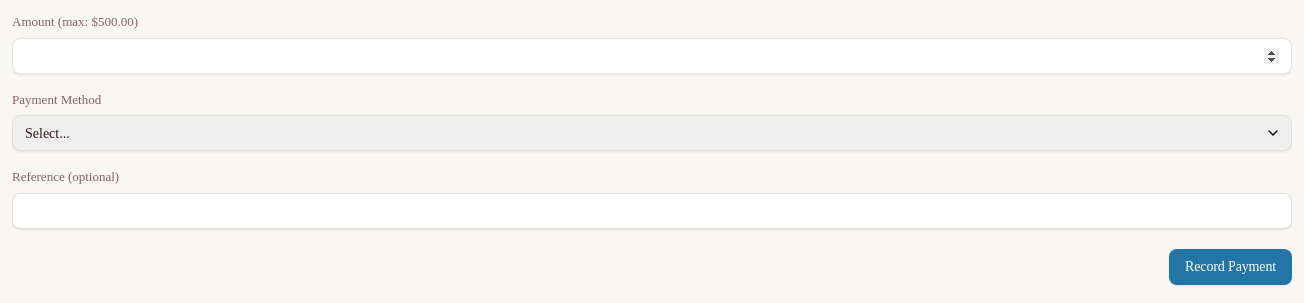
Test: PaymentForm › shows loading state
Type "250" into the number field labelled "Amount (max: $500.00)" at coordinates (652, 56), box [12, 38, 1292, 74]
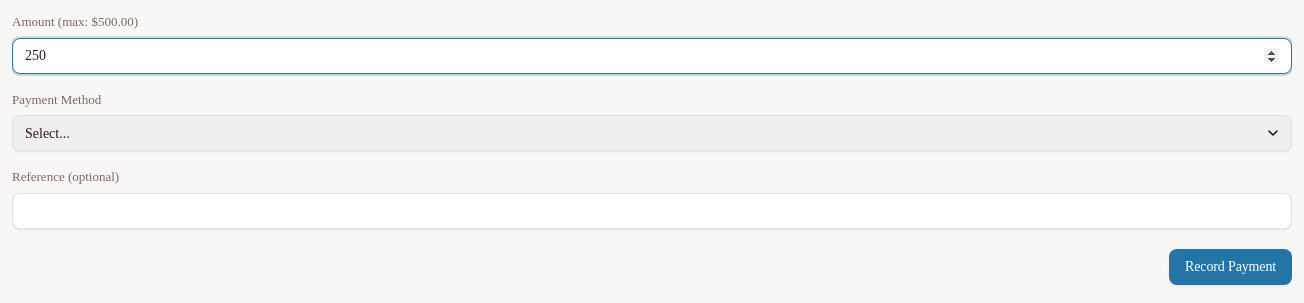
Select "Card" in the dropdown labelled "Payment Method" at coordinates (652, 133), box [12, 115, 1292, 151]
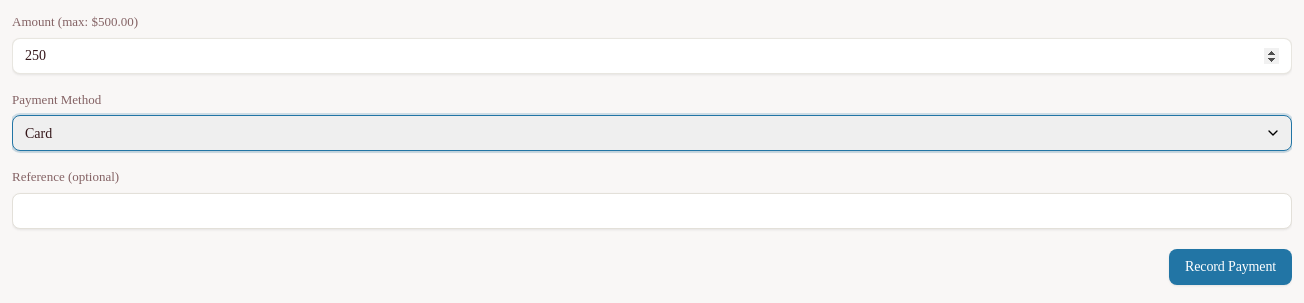
Submit the form "Record Payment"
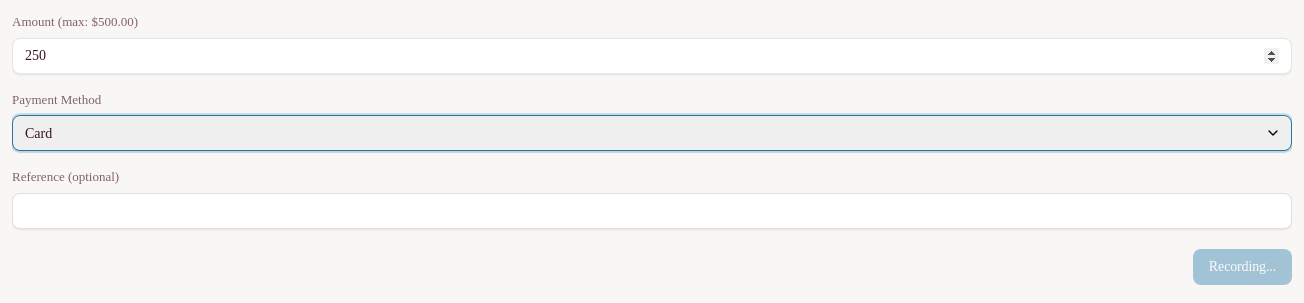
Expected: the button "Recording..." is disabled, [1193, 248, 1292, 284]
